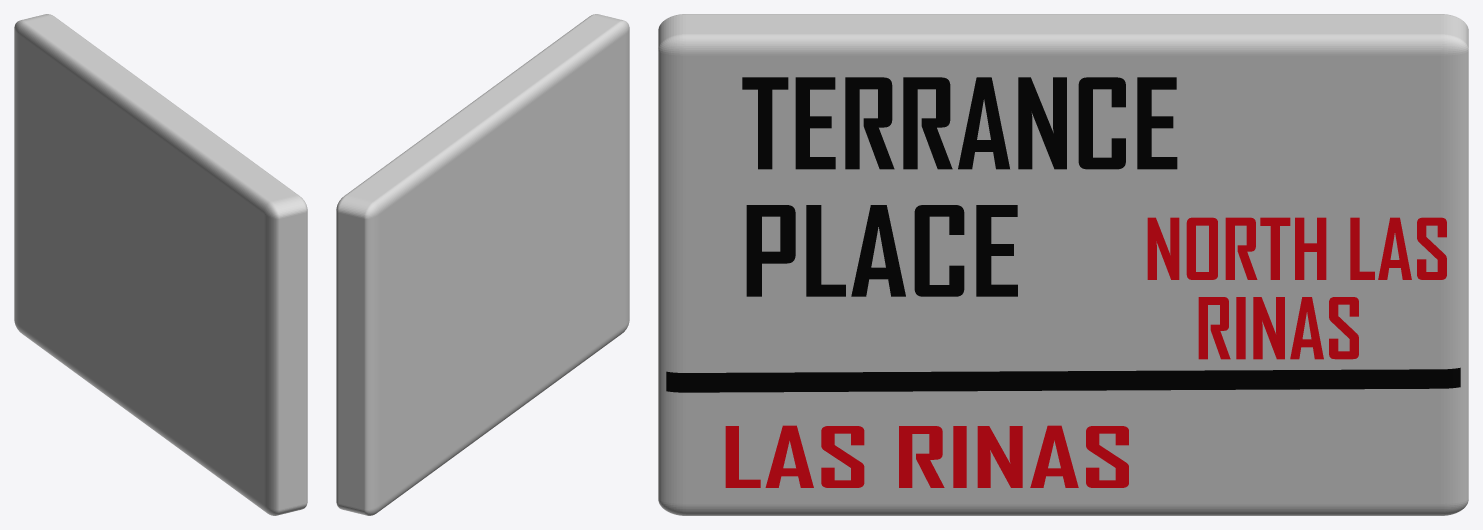
The model's file is uk_styled_street_sign_10.fbx.
3 renders of one model, left to right at view 1: azimuth 30°, elevation 25°; view 2: azimuth 150°, elevation 25°; view 3: azimuth 270°, elevation 25°, orthographic. The views are drawn at different scales.
Parts seen in each view (by area): view 1: Cube; view 2: Cube; view 3: Cube, Text, Text.002, Text.001, Text.003, Text.004.
Part boxes in pixels (<box>): Cube: <box>14,14,307,515</box>; Cube: <box>336,14,629,515</box>; Cube: <box>658,14,1468,515</box>; Text: <box>742,77,1177,169</box>; Text.002: <box>725,425,1128,487</box>; Text.001: <box>746,205,1017,296</box>; Text.003: <box>1147,217,1446,279</box>; Text.004: <box>1198,297,1358,359</box>.
Size of the model in its own units: 1.63 by 11.91 by 18.18.
